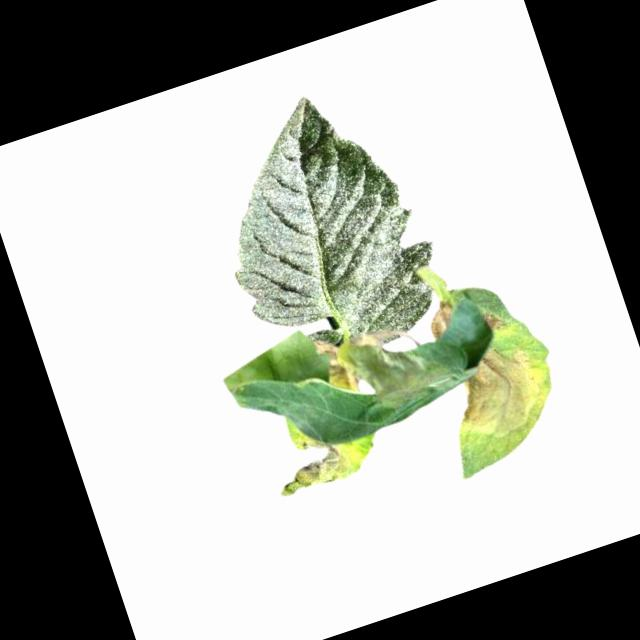Late_blight: (439, 336, 557, 451), (349, 314, 453, 417), (263, 419, 361, 501), (312, 331, 366, 400), (424, 299, 464, 342), (484, 305, 516, 334)
healthy: (188, 69, 457, 378)
